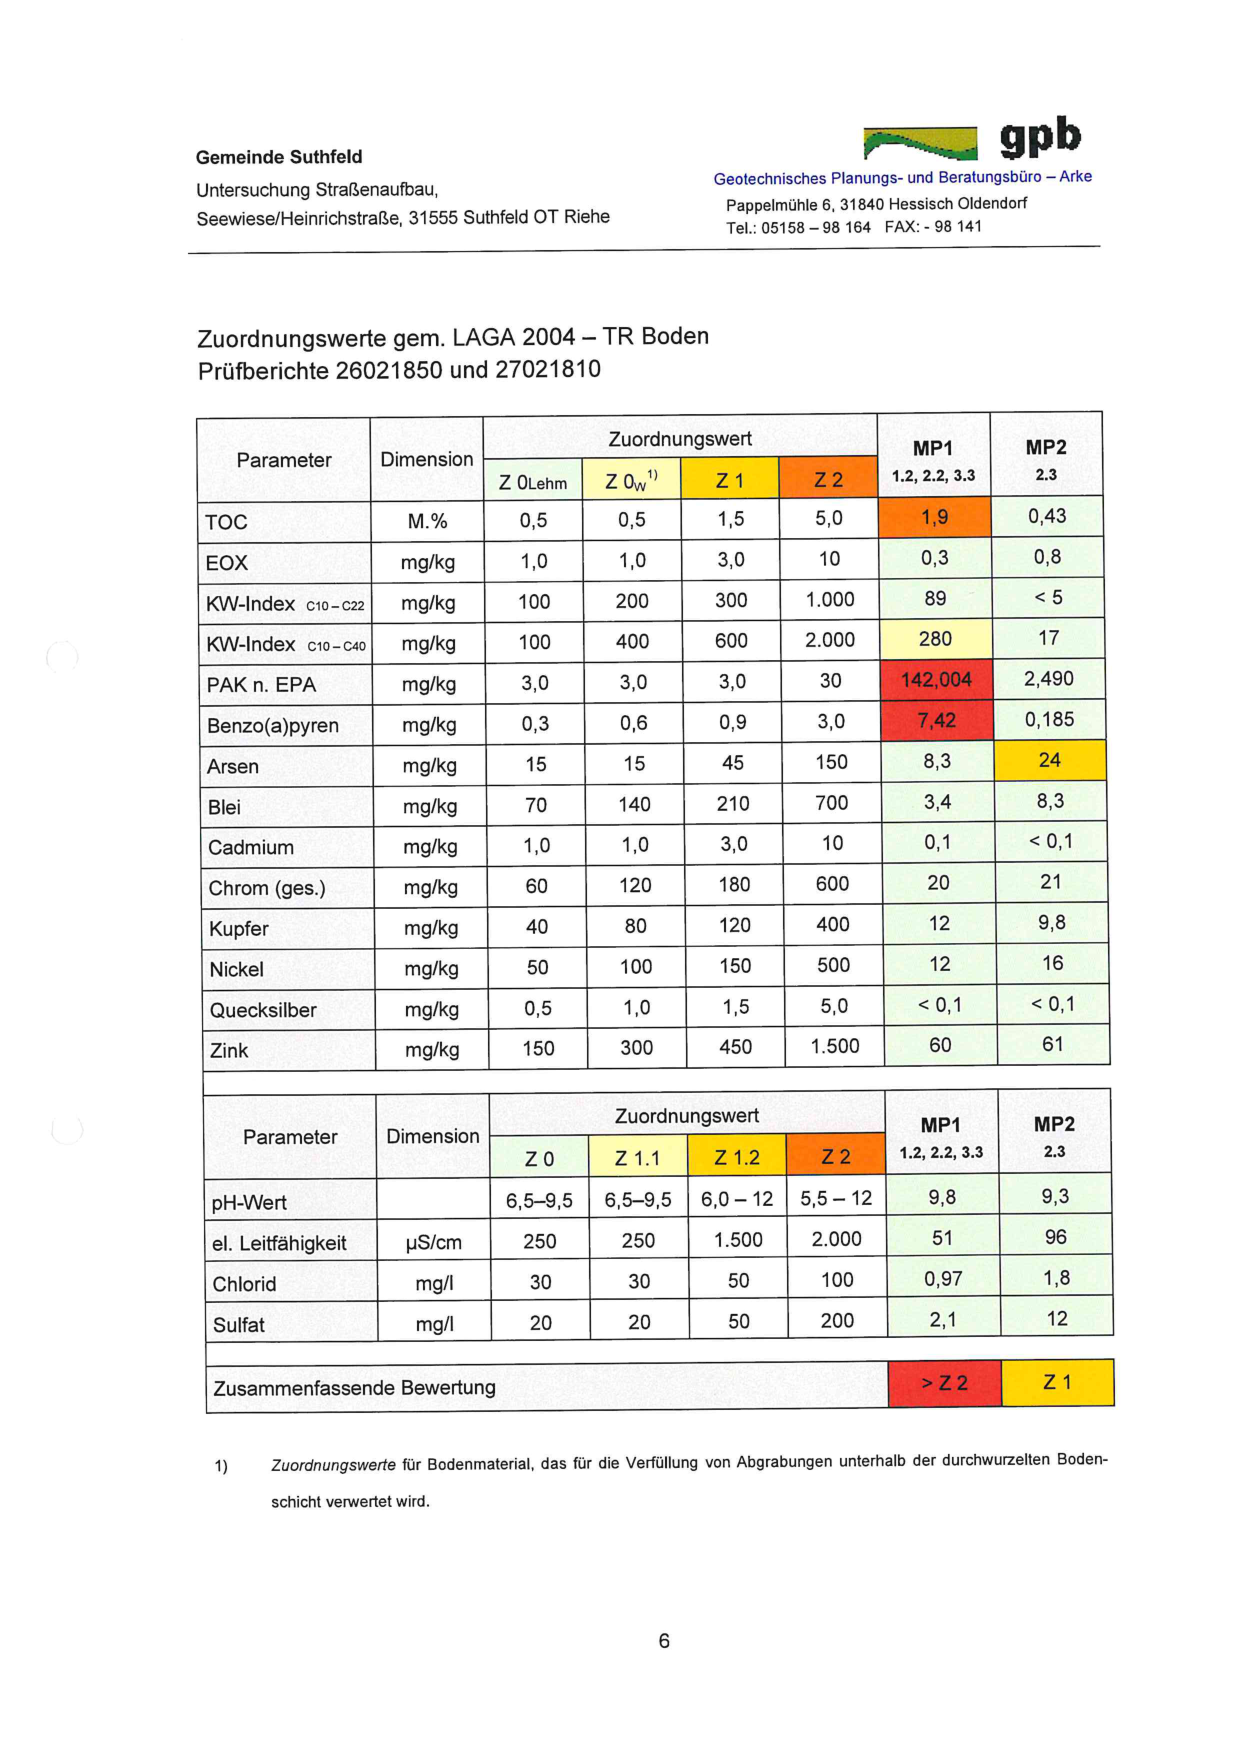table: (172, 403, 1122, 1078), (191, 1084, 1127, 1351), (187, 1351, 1133, 1421)
